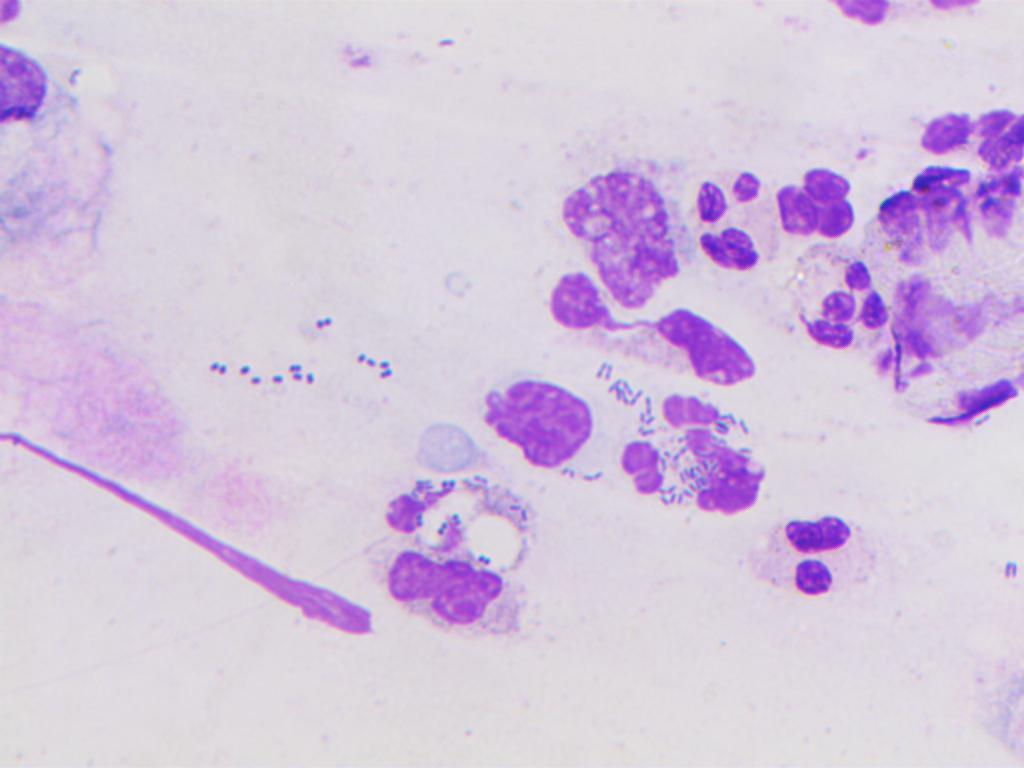epithelial: (555, 152, 696, 308)
lymphocyte: (475, 356, 605, 475), (376, 547, 526, 639)
neutrophil: (626, 387, 770, 519), (743, 482, 880, 612), (374, 460, 537, 563), (785, 241, 889, 352), (684, 171, 785, 282), (778, 148, 866, 243)
